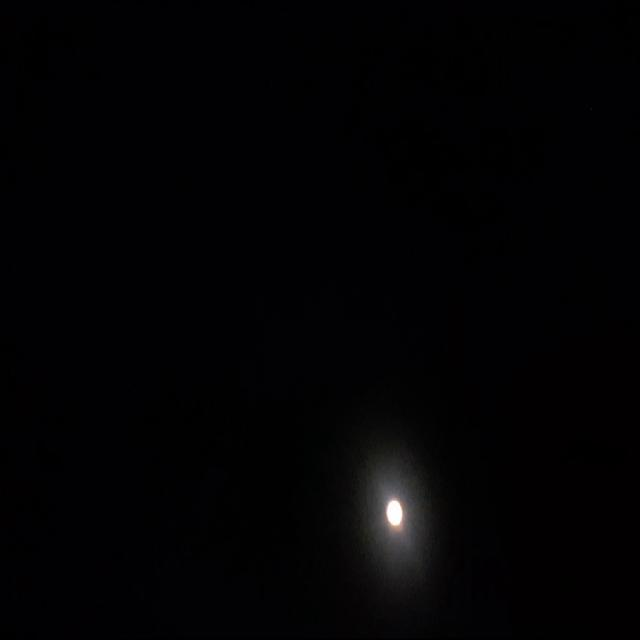moon: (383, 498, 406, 532)
